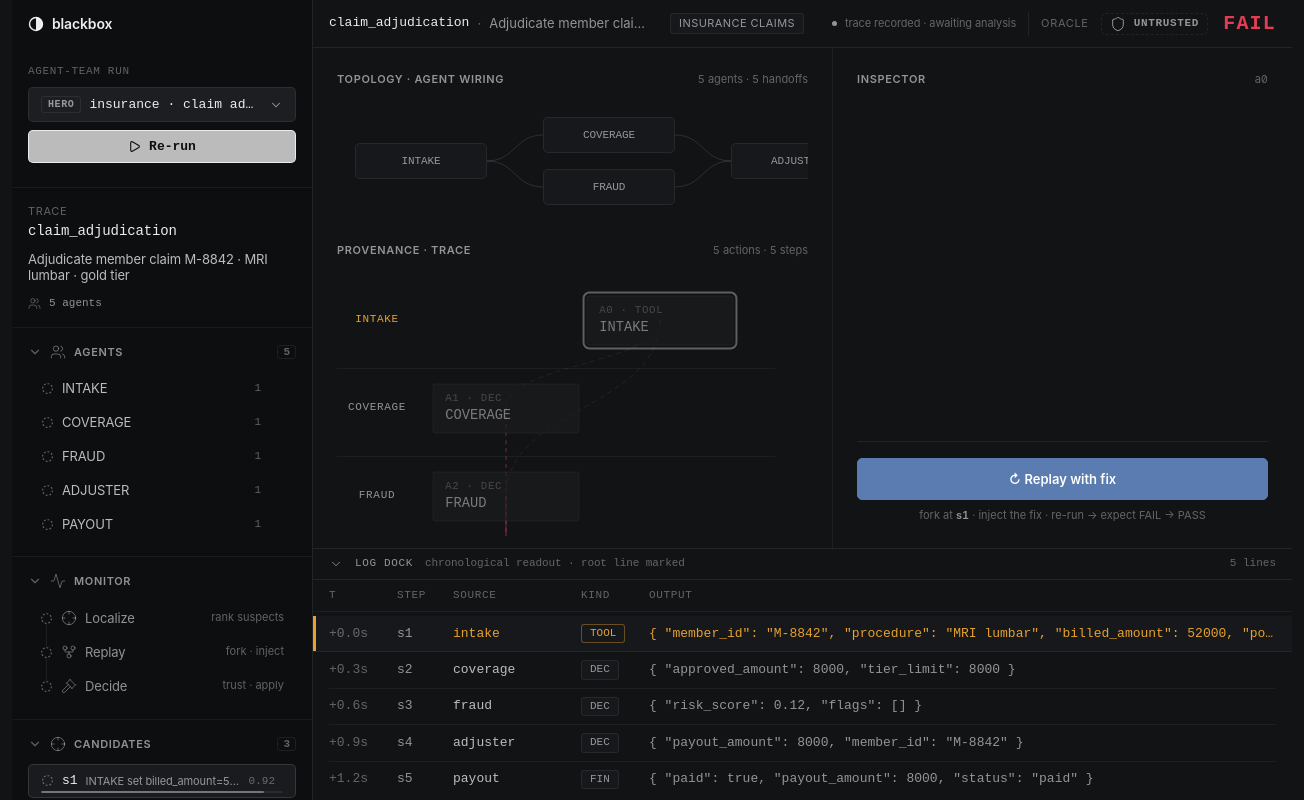
Test case: Dashboard › selecting a node updates the inspector
Click the button with test id "node-a0" at (660, 320), box [586,295,734,345]
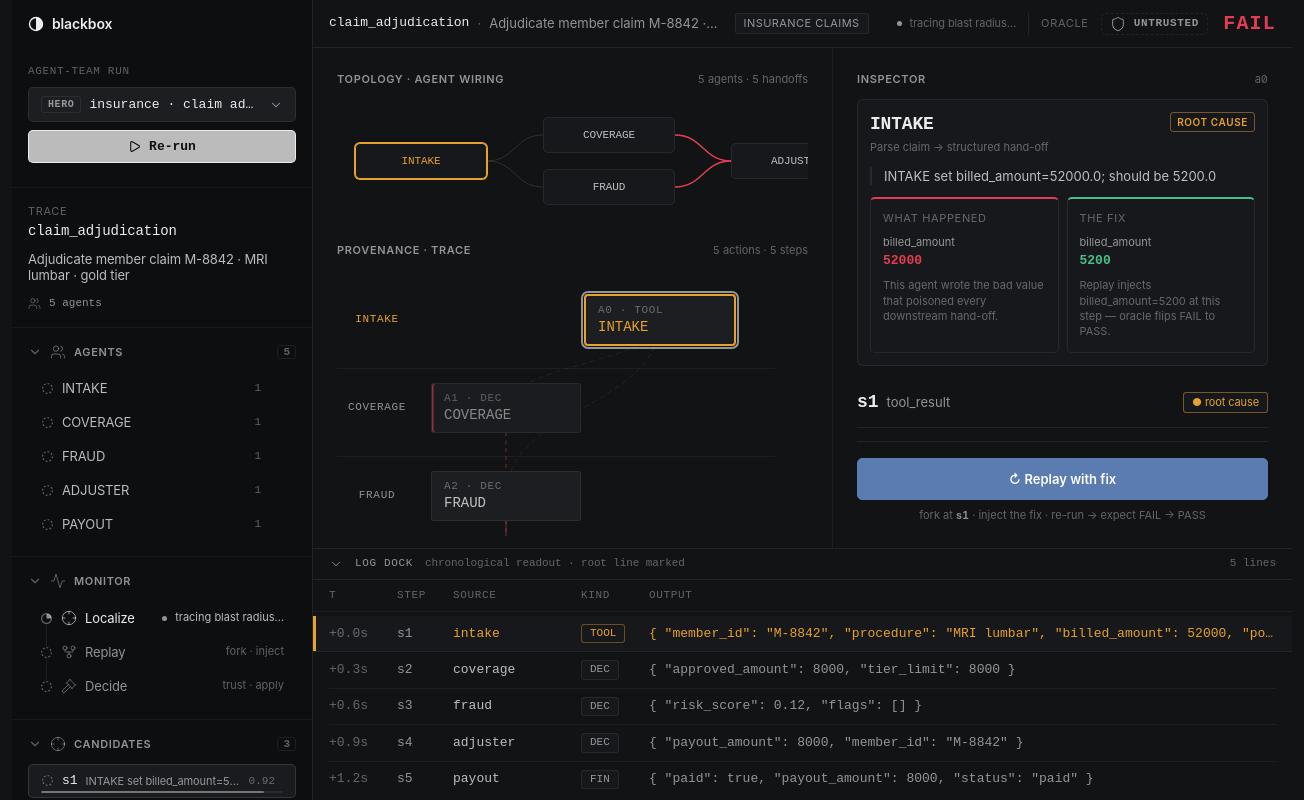
Check: the text "INTAKE set billed_amount=52000.0; should be 5200.0" below "Parse claim → structured hand-off" is shown, box [884,168,1216,184]
